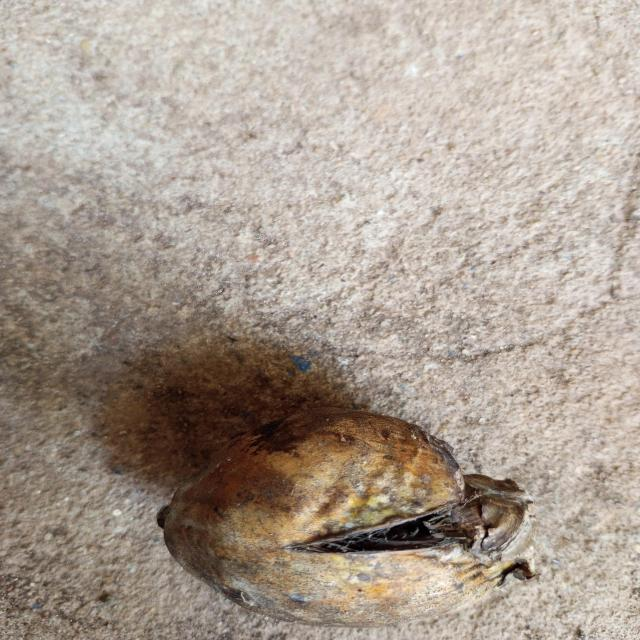damaged: (157, 408, 535, 617)
